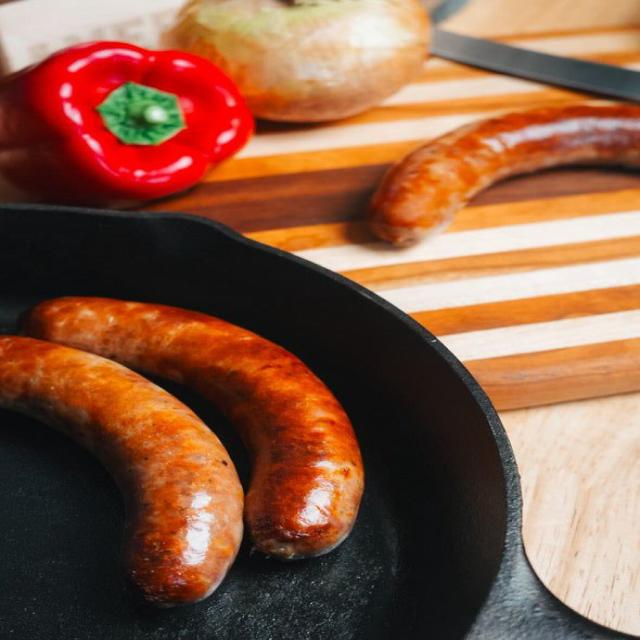onion: (165, 0, 430, 122)
red pepper: (0, 42, 252, 205)
sausage: (22, 298, 363, 559), (0, 336, 242, 606), (369, 105, 639, 245)
